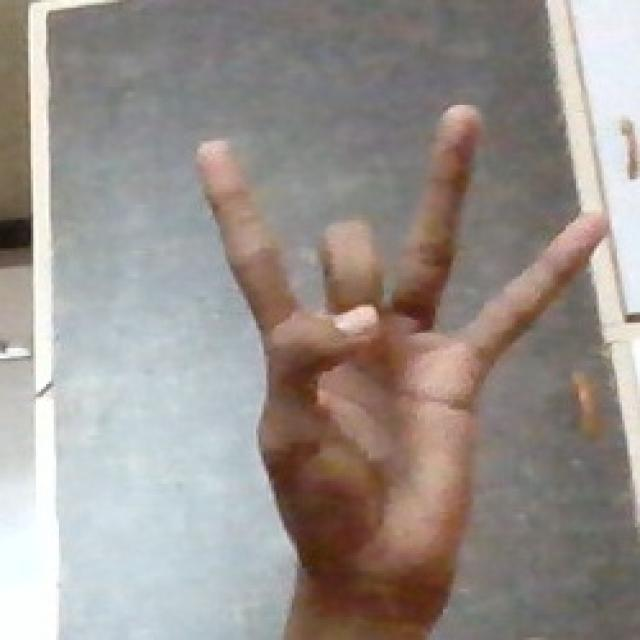Numeric-8: (190, 98, 608, 604)
